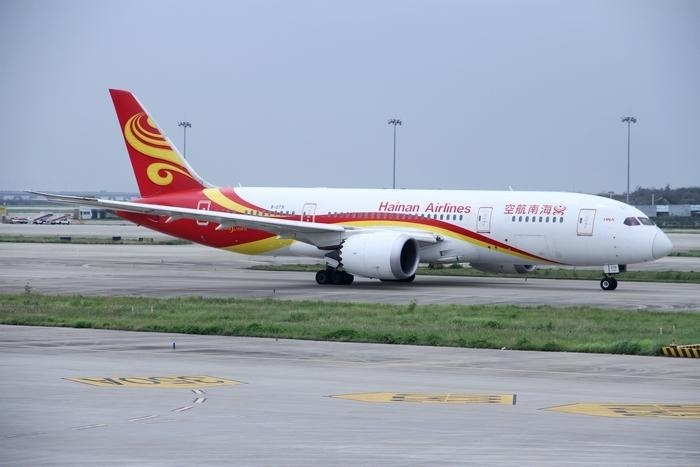airplane: (22, 85, 674, 297)
